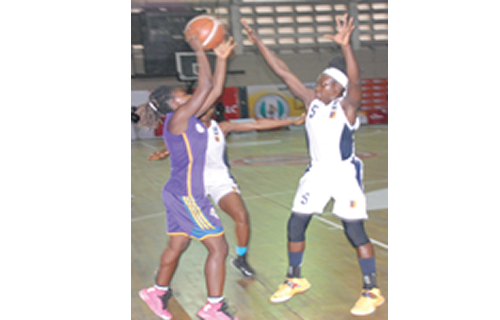ball: (184, 14, 226, 51)
player: (246, 18, 381, 310), (144, 39, 238, 320), (190, 94, 269, 281)
